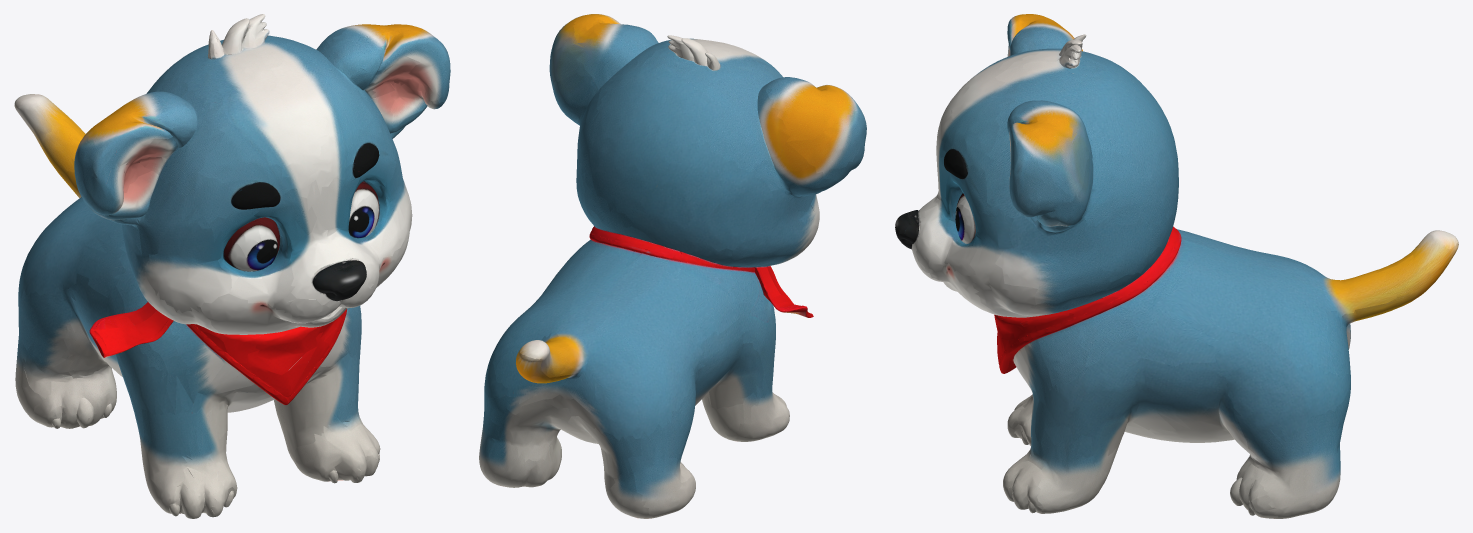
The model's file is meshy-1795642523159.glb.
3 renders of one model, left to right at view 1: azimuth 30°, elevation 25°; view 2: azimuth 150°, elevation 25°; view 3: azimuth 270°, elevation 25°, orthographic. The views are drawn at different scales.
Size of the model in its own units: 1.32 by 1.58 by 1.9.
1 material, 1 textured.
